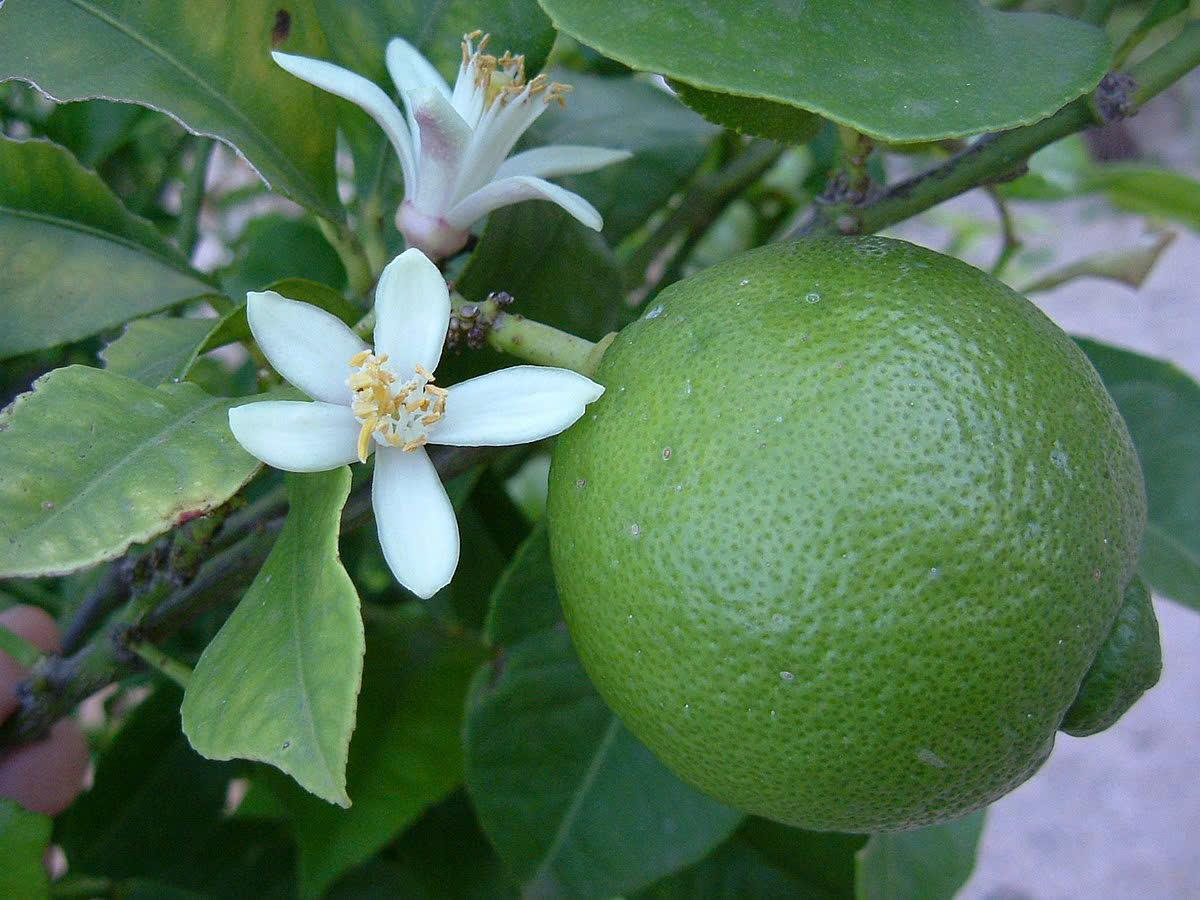lime: (504, 219, 1152, 847)
